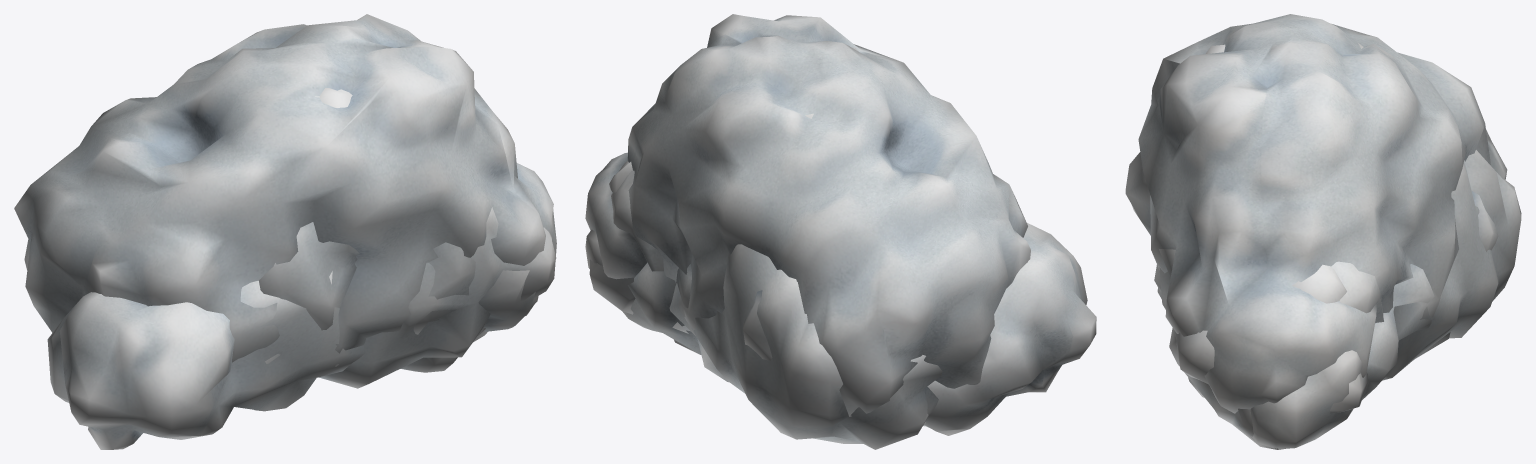
File: clouds_LOD_1.fbx
The picture shows the model from 3 angles, left to right: view 1: azimuth 30°, elevation 25°; view 2: azimuth 150°, elevation 25°; view 3: azimuth 270°, elevation 25°; orthographic projection. The views are drawn at different scales.
Visible parts, largest first — view 1: cloud_03_LOD_1, cloud_02_LOD_1, cloud_01_LOD_1; view 2: cloud_03_LOD_1, cloud_01_LOD_1, cloud_02_LOD_1; view 3: cloud_03_LOD_1, cloud_01_LOD_1, cloud_02_LOD_1.
Part boxes in pixels (<box>): cloud_03_LOD_1: <box>14,14,556,366</box>; cloud_02_LOD_1: <box>47,88,537,449</box>; cloud_01_LOD_1: <box>258,96,556,388</box>; cloud_03_LOD_1: <box>585,14,1030,425</box>; cloud_01_LOD_1: <box>585,113,942,449</box>; cloud_02_LOD_1: <box>589,47,1096,435</box>; cloud_03_LOD_1: <box>1138,14,1507,413</box>; cloud_01_LOD_1: <box>1157,42,1521,448</box>; cloud_02_LOD_1: <box>1125,44,1383,449</box>.
Bounding box in the file's own units: 6923 × 4694 × 4769.
